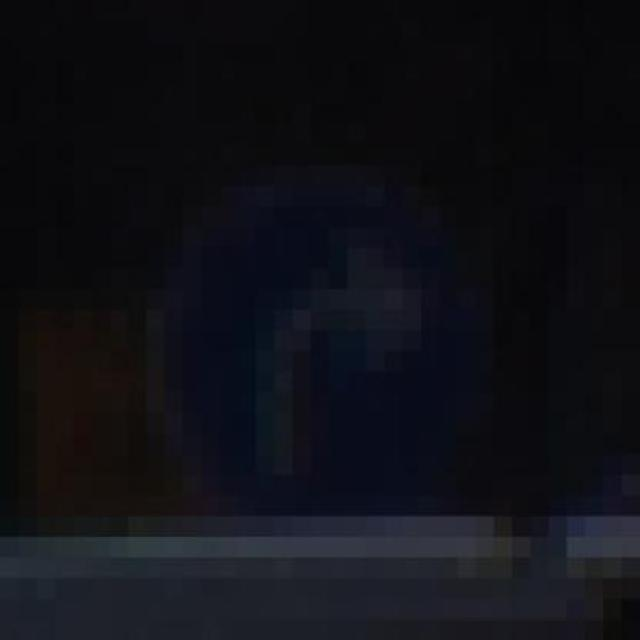Turn right ahead: (92, 144, 530, 578)
